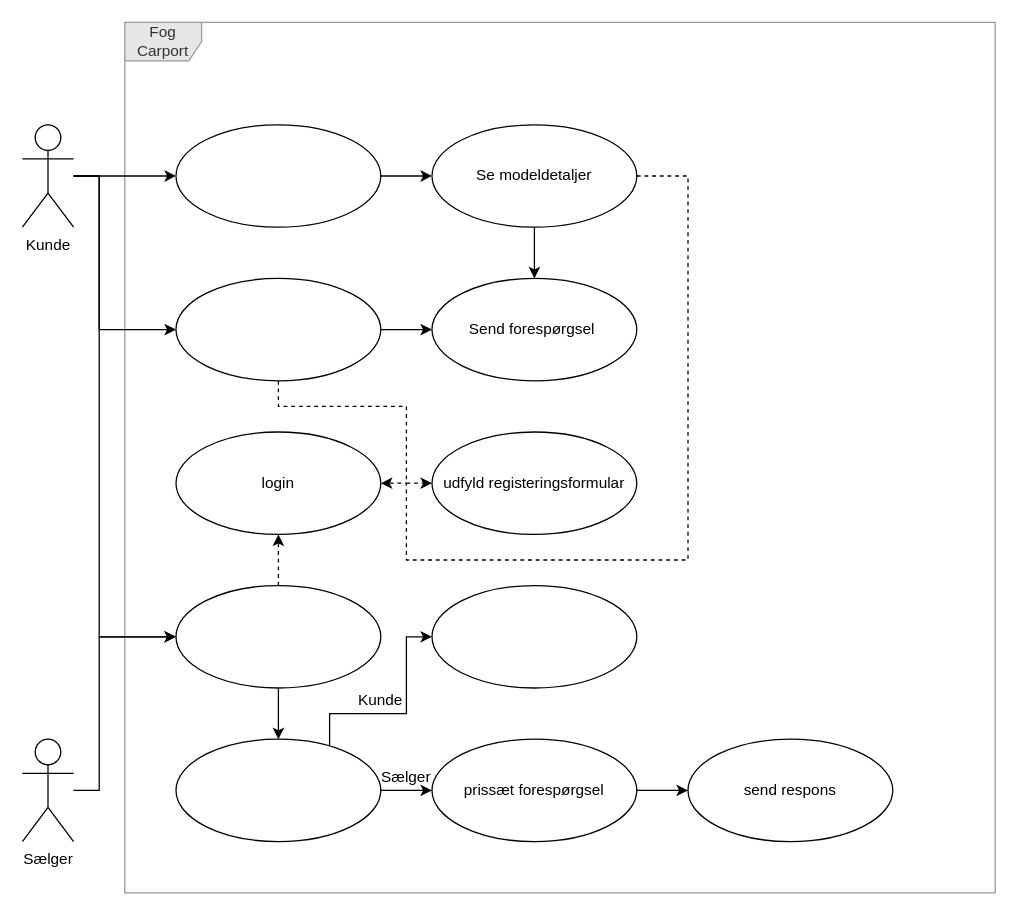
The diagram is 1018 pixels wide and 915 high, and some of its shapes have lost their labels. The shapes that lost their labels are listed below. From the top down, each one's centre as x and y in pixels, then its label:
(x=278, y=175): Gennemse modelliste
(x=278, y=329): Udfyld byg-selv-formular
(x=278, y=636): Gennemse forespørgselsliste
(x=534, y=636): Se respons
(x=278, y=790): Se forespørgsel
